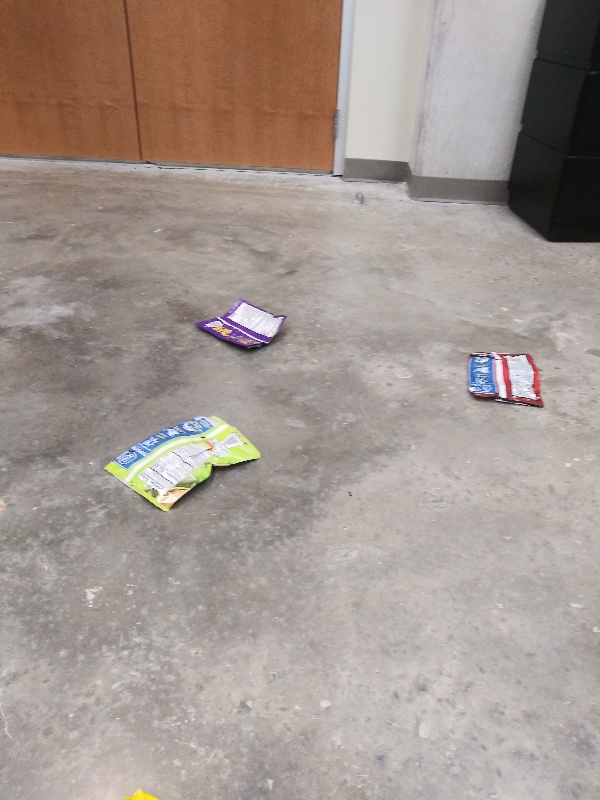bag: (105, 413, 266, 516), (463, 344, 549, 410), (191, 296, 290, 353)
